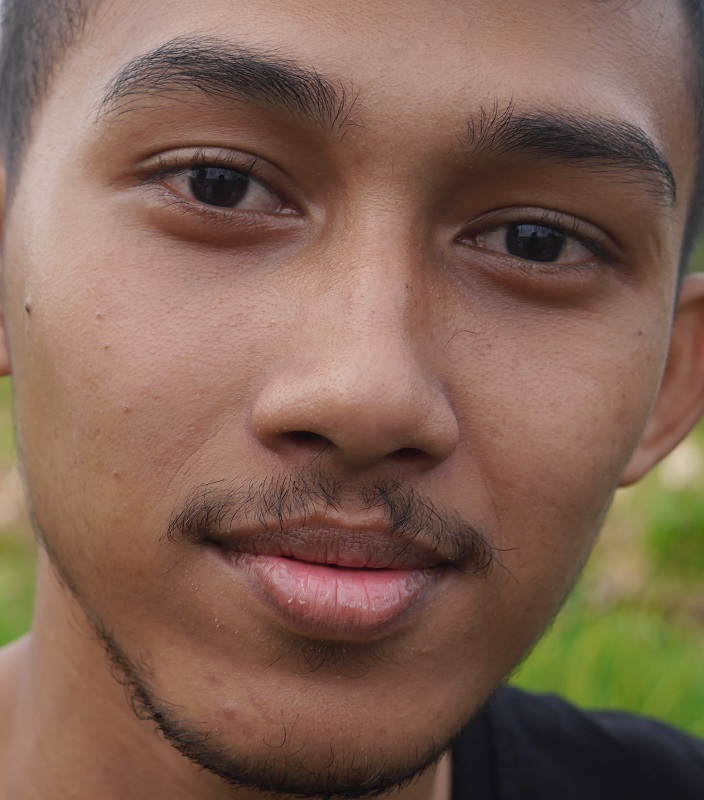bekas: (238, 719, 259, 736), (611, 405, 632, 421)
jerawat: (219, 702, 239, 719), (415, 641, 435, 658), (205, 667, 222, 683), (107, 467, 123, 482), (119, 403, 135, 417), (100, 337, 116, 351), (93, 309, 107, 322)
